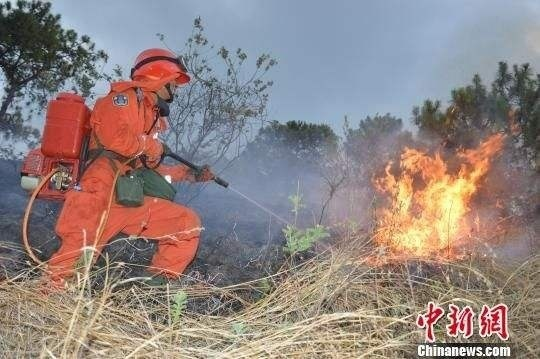fire: (365, 126, 508, 259)
